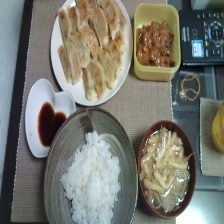rice: (58, 127, 126, 224)
